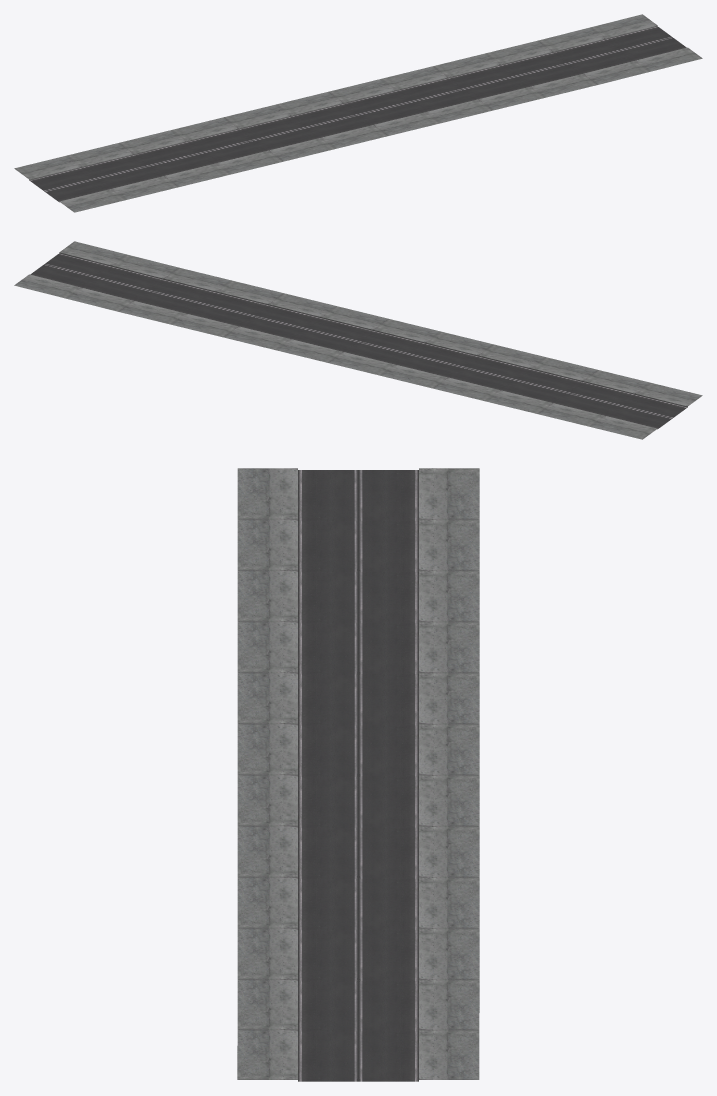
The model's file is roadssfse24.obj.
3 renders of one model, top to bottom at view 1: azimuth 30°, elevation 25°; view 2: azimuth 150°, elevation 25°; view 3: azimuth 270°, elevation 25°, orthographic. The views are drawn at different scales.
Visible parts, largest first — view 1: roadsSFSE24; view 2: roadsSFSE24; view 3: roadsSFSE24.
Boxes of the visible parts, x1,y1,x2,y2 form: roadsSFSE24: (14, 14, 702, 212); roadsSFSE24: (14, 241, 702, 439); roadsSFSE24: (237, 468, 479, 1081).
Size of the model in its own units: 120 by 0.3001 by 20.01.
2 materials, 2 textured.
